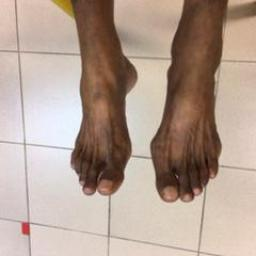Dorsal View -Both Feet-: (30, 22, 247, 214)
